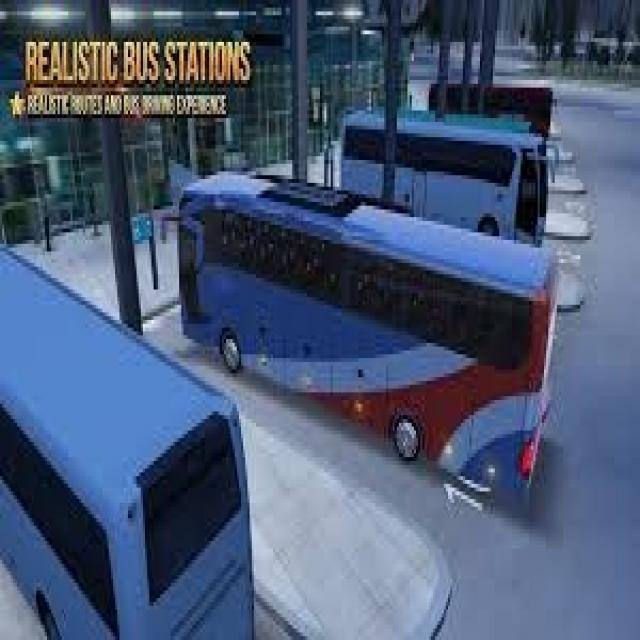bus: (174, 159, 563, 502), (0, 239, 260, 640), (341, 104, 547, 246)
